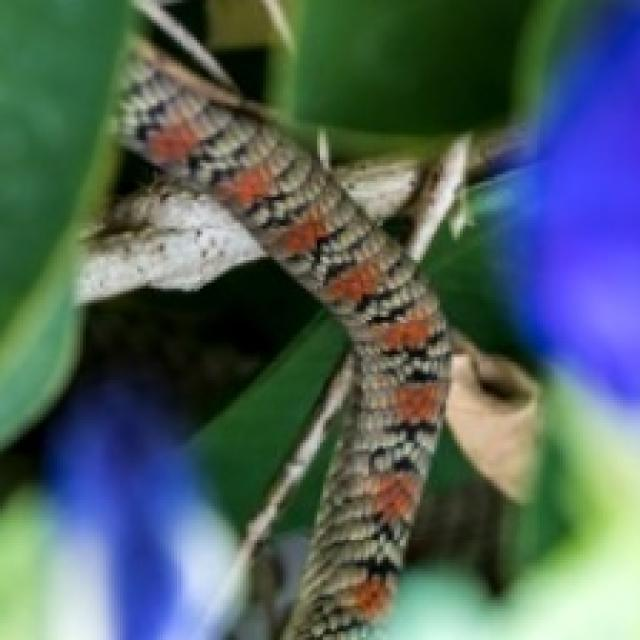paradise tree snake: (123, 43, 449, 637)
